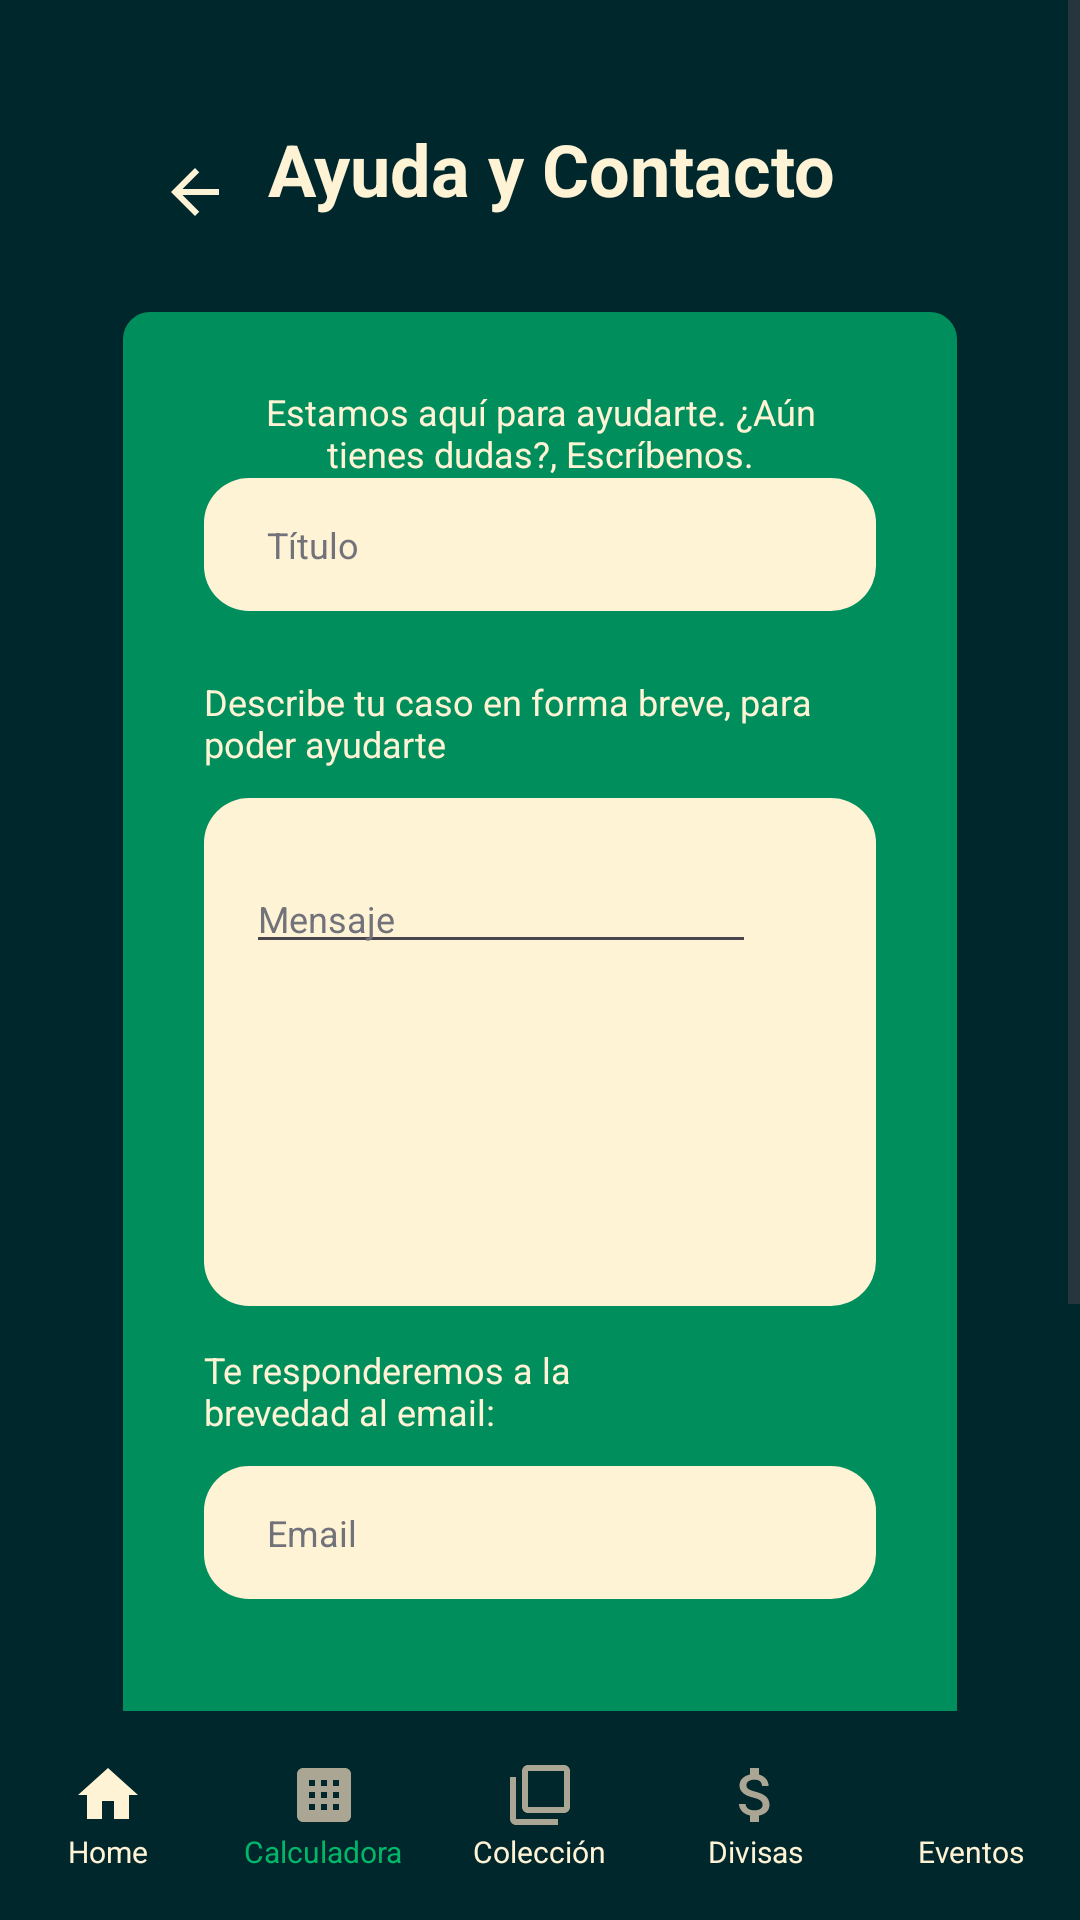

Locate icon controls on the screen. Image size 1080*1920, boxes as (x1, y1, x2, y2).
Volver: (171, 168, 219, 216)
